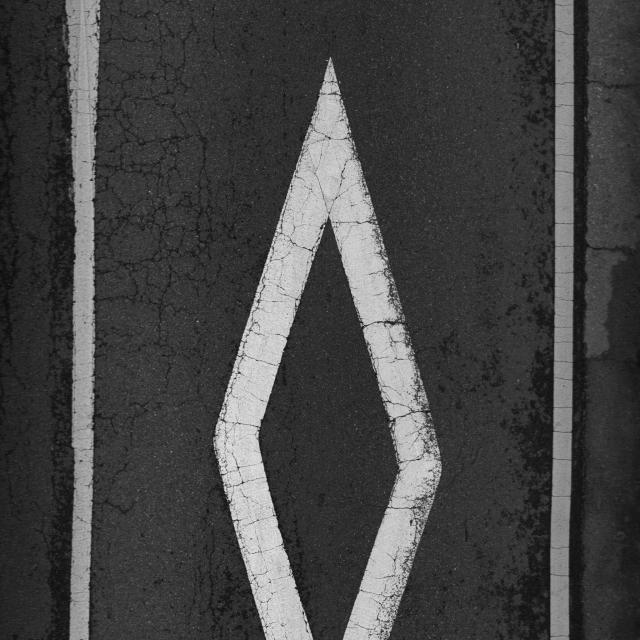diamond: (61, 26, 572, 640)
